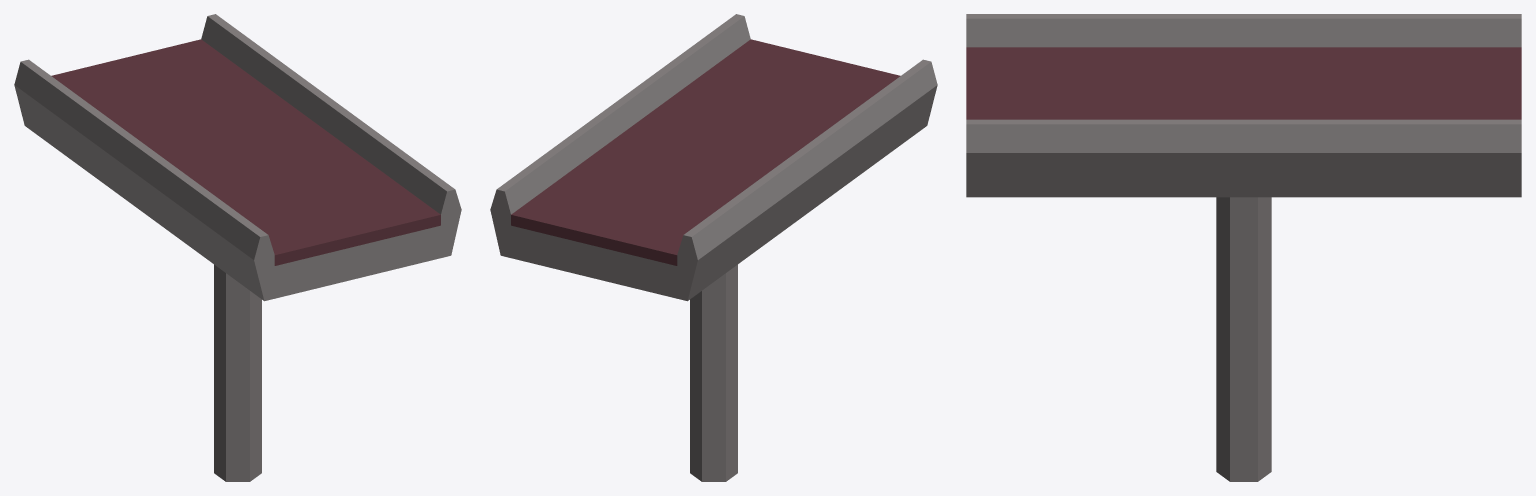
Rendered from belt-moving-straight.fbx.
3 renders of one model, left to right at view 1: azimuth 30°, elevation 25°; view 2: azimuth 150°, elevation 25°; view 3: azimuth 270°, elevation 25°, orthographic. The views are drawn at different scales.
Parts seen in each view (by area): view 1: belt-moving-straight; view 2: belt-moving-straight; view 3: belt-moving-straight.
Part boxes in pixels (<box>): belt-moving-straight: <box>14,14,461,481</box>; belt-moving-straight: <box>490,14,937,481</box>; belt-moving-straight: <box>966,14,1521,481</box>.
Size of the model in its own units: 1 by 1.6 by 2.
